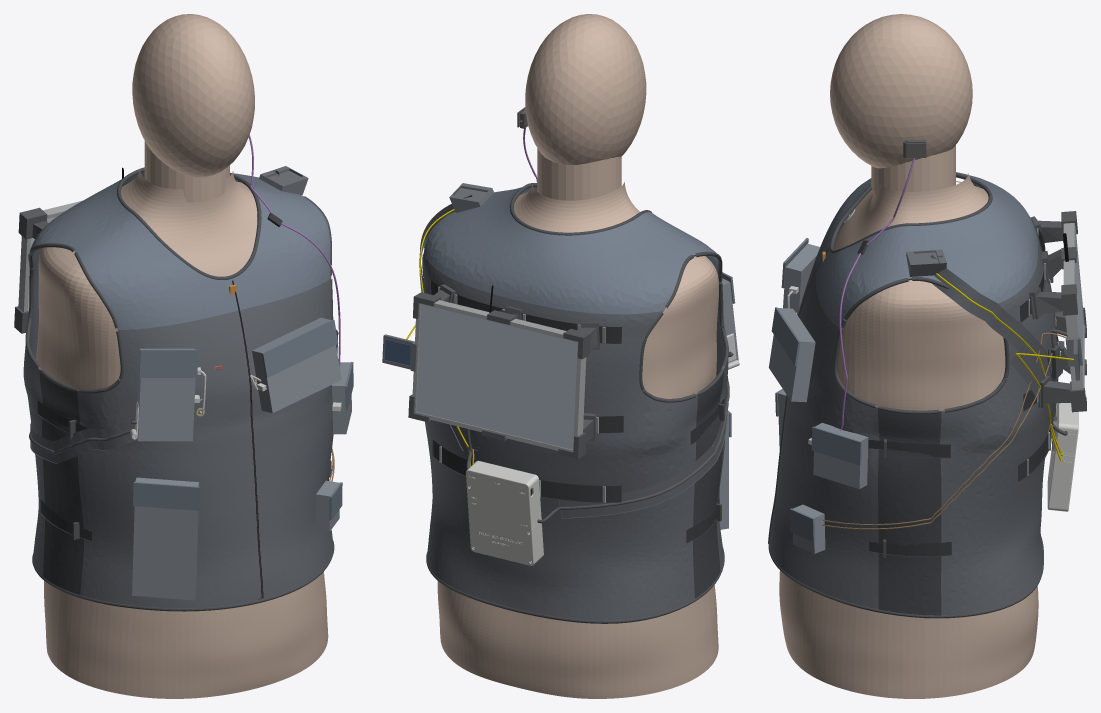
Rendered from assembly_with_torso_PRIVATE.glb.
The picture shows the model from 3 angles, left to right: view 1: azimuth 30°, elevation 25°; view 2: azimuth 150°, elevation 25°; view 3: azimuth 270°, elevation 25°; orthographic projection.
Visible parts, largest first — view 1: torso_PRIVATE, vest/vest_FRONT_R, head_proxy_PRIVATE, vest/vest_FRONT_L, vest/vest_YOKE_FR, vest/vest_YOKE_FL, vest/pocket_phone, vest/vest_SIDE_R, vest/pocket_C_board, vest/pocket_chest_pod, vest/vest_YOKE_B, vest/vest_BACK_SR (+13 smaller); view 2: torso_PRIVATE, vest/vest_BACK_C, vest/vest_YOKE_B, head_proxy_PRIVATE, panel_glass, vest/vest_BACK_SR, back_pod_lid, vest/vest_SIDE_R, panel, vest/tunnel_J6_back_to_chest, vest/webbing_row_C, back_pod_base (+14 smaller); view 3: torso_PRIVATE, head_proxy_PRIVATE, vest/vest_FRONT_L, vest/vest_BACK_SL, vest/vest_SIDE_L, vest/vest_YOKE_B, vest/vest_BACK_C, vest/vest_YOKE_FL, vest/tunnel_ref2, vest/pocket_C_board, back_pod_base, vest/pocket_A_heartbit (+23 smaller).
Boxes of the visible parts, box(x1,y1,x2,y2) form: torso_PRIVATE: box(36, 169, 328, 698); vest/vest_FRONT_R: box(77, 311, 260, 608); head_proxy_PRIVATE: box(132, 14, 254, 202); vest/vest_FRONT_L: box(237, 278, 337, 599); vest/vest_YOKE_FR: box(75, 212, 236, 329); vest/vest_YOKE_FL: box(230, 185, 331, 310); vest/pocket_phone: box(132, 477, 199, 600); vest/vest_SIDE_R: box(39, 370, 83, 594); vest/pocket_C_board: box(252, 317, 341, 413); vest/pocket_chest_pod: box(137, 348, 195, 441); vest/vest_YOKE_B: box(30, 171, 302, 251); vest/vest_BACK_SR: box(23, 249, 44, 576); torso_PRIVATE: box(437, 181, 718, 698); vest/vest_BACK_C: box(429, 267, 628, 620); vest/vest_YOKE_B: box(424, 189, 693, 314); head_proxy_PRIVATE: box(525, 14, 646, 200); panel_glass: box(416, 304, 577, 449); vest/vest_BACK_SR: box(623, 311, 697, 619); back_pod_lid: box(466, 469, 537, 565); vest/vest_SIDE_R: box(693, 369, 723, 598); panel: box(412, 285, 586, 451); vest/tunnel_J6_back_to_chest: box(558, 376, 728, 518); vest/webbing_row_C: box(432, 439, 621, 502); back_pod_base: box(468, 460, 543, 563); torso_PRIVATE: box(779, 173, 1038, 698); head_proxy_PRIVATE: box(830, 14, 972, 194); vest/vest_FRONT_L: box(769, 275, 879, 609); vest/vest_BACK_SL: box(940, 296, 1019, 615); vest/vest_SIDE_L: box(878, 407, 941, 615); vest/vest_YOKE_B: box(910, 172, 1037, 303); vest/vest_BACK_C: box(1007, 233, 1054, 601); vest/vest_YOKE_FL: box(815, 226, 909, 328); vest/tunnel_ref2: box(930, 255, 1052, 380); vest/pocket_C_board: box(768, 308, 815, 402); back_pod_base: box(1047, 403, 1077, 511); vest/pocket_A_heartbit: box(813, 422, 868, 489).
Bounding box in the file's own units: 0.4313 × 0.94 × 0.4372.
